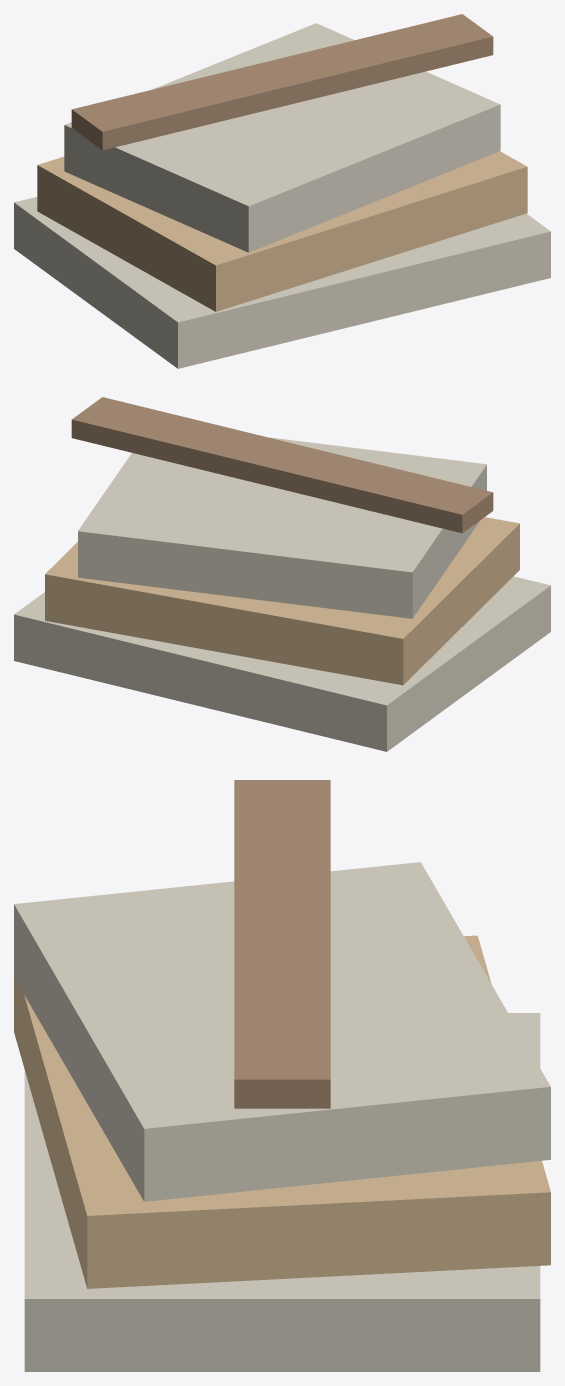
Rendered from cloth.glb.
The picture shows the model from 3 angles, top to bottom: view 1: azimuth 30°, elevation 25°; view 2: azimuth 150°, elevation 25°; view 3: azimuth 270°, elevation 25°; orthographic projection. The views are drawn at different scales.
Visible parts, largest first — view 1: cloth; view 2: cloth; view 3: cloth.
Boxes of the visible parts, x1,y1,x2,y2 form: cloth: [14, 14, 550, 368]; cloth: [14, 397, 550, 751]; cloth: [14, 780, 550, 1371].
Bounding box in the file's own units: 0.44 × 0.205 × 0.3334.
